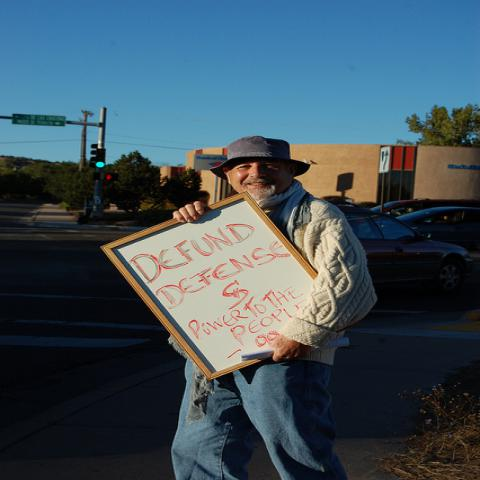car: (335, 206, 474, 294), (395, 206, 479, 246)
